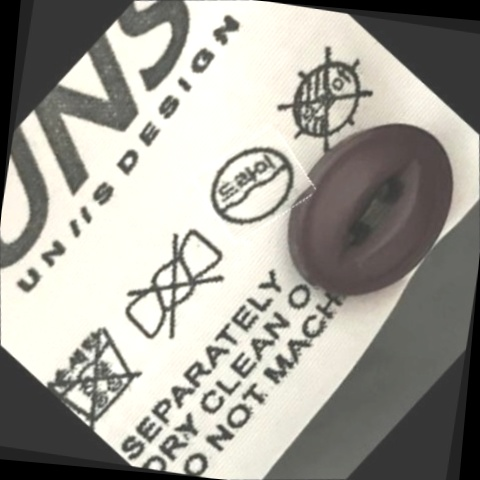DN_dry: (265, 39, 386, 161)
DN_wring: (107, 220, 243, 356)
dry_clean: (199, 130, 308, 242)
hand_wash: (40, 309, 155, 432)
